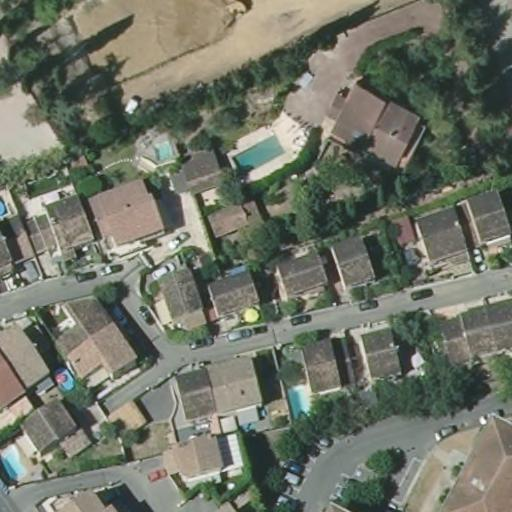pool: (226, 138, 286, 172), (286, 383, 317, 422), (0, 439, 27, 482), (151, 141, 179, 164), (57, 364, 76, 394), (0, 195, 12, 222)
